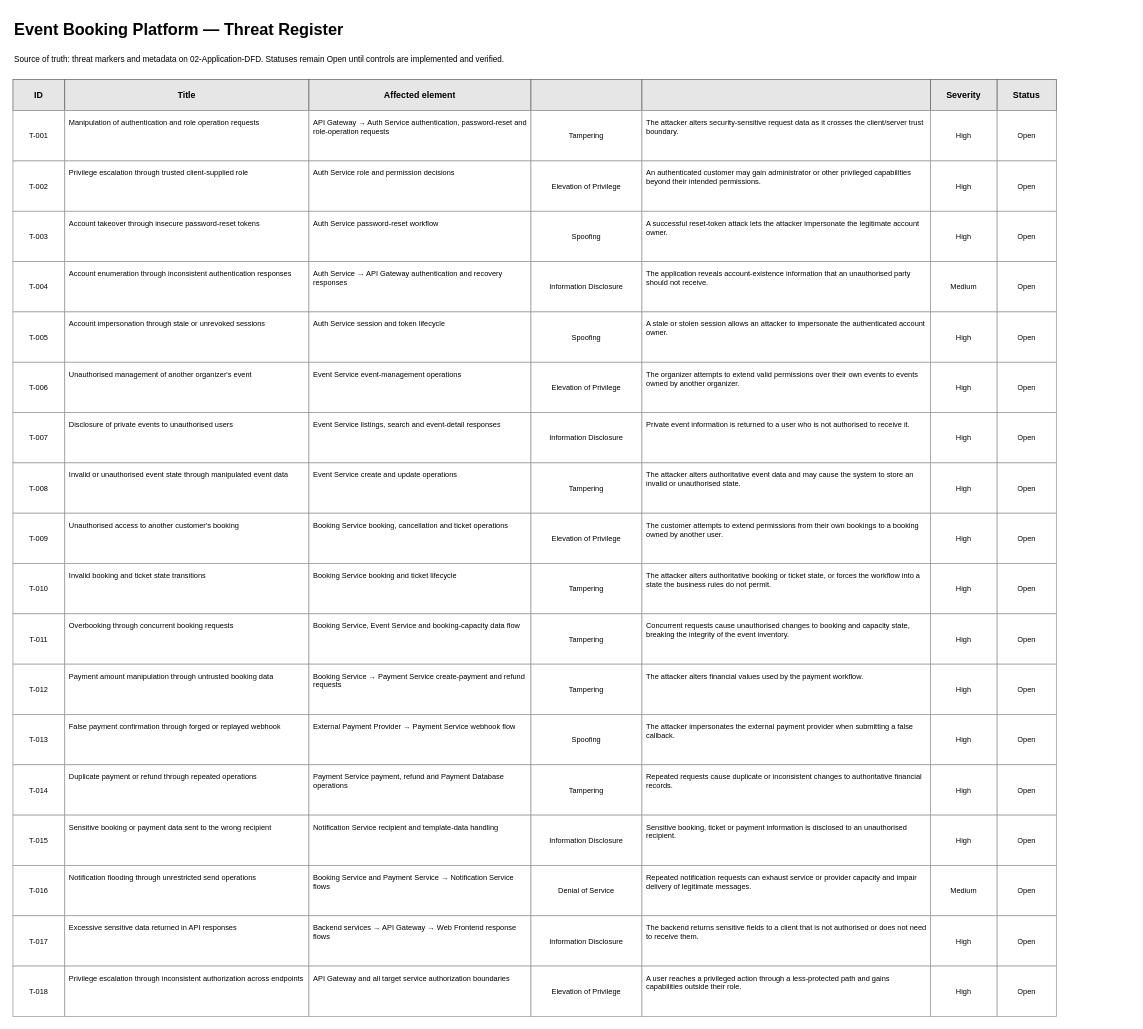
This 1143x1029 diagram has some shape labels left out. The shapes that lost their labels are listed below. From the top down, each one's centre as x and y in pixels, then its label:
[586,95]: STRIDE
[786,95]: Why STRIDE applies
